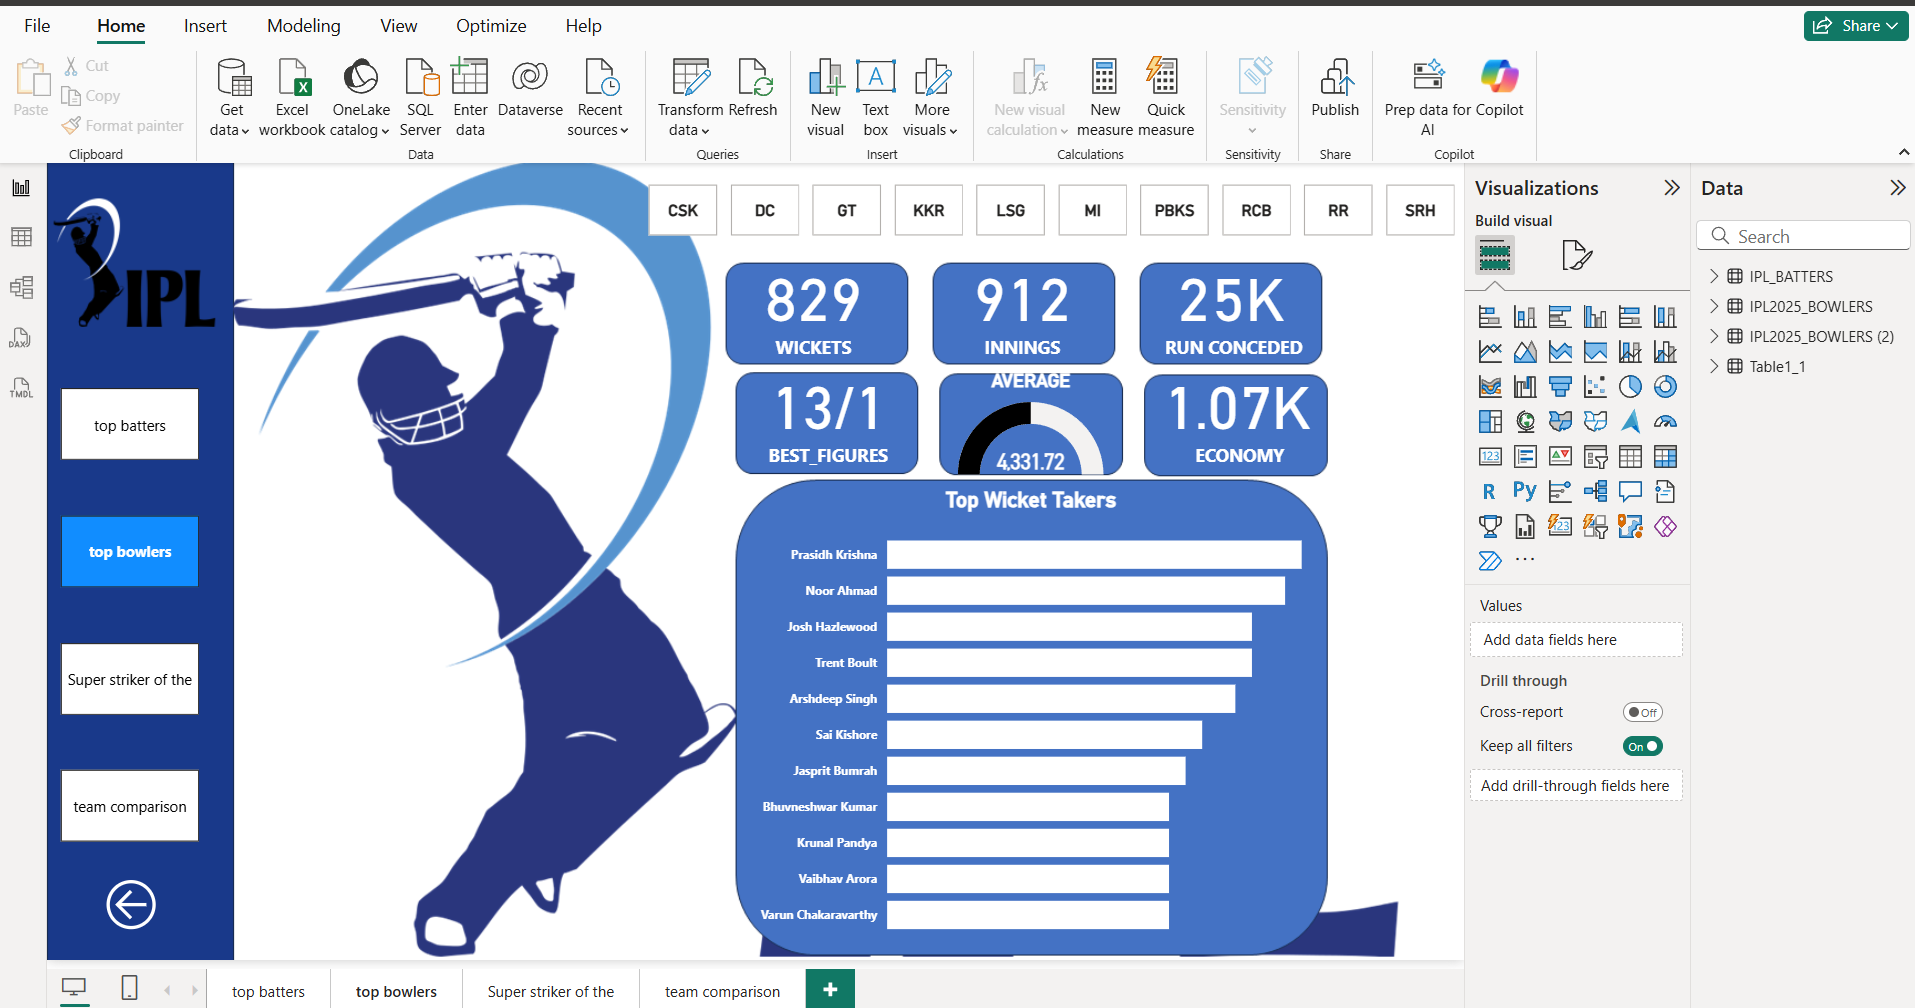

Layout of this report page (visuals, bound fields, positions):
{"tool":"powerbi","page":{"name":"top bowlers","canvas":[1280,720],"ordinal":1},"visuals":[{"type":"clusteredBarChart","title":"Top Wicket Takers","fields":{"Category":["IPL2025_BOWLERS (2).PLAYER_NAME"],"Y":["Sum(IPL2025_BOWLERS (2).WICKETS)"]},"box":[639.5,293.7,499.5,417.2],"z":0},{"type":"card","fields":{"Values":["Min(IPL2025_BOWLERS (2).BEST_FIGURES)"]},"box":[618.9,171.5,174.3,107],"z":1000},{"type":"card","fields":{"Values":["Sum(IPL2025_BOWLERS (2).WICKETS)"]},"box":[603.8,74.1,177,107],"z":2000},{"type":"card","fields":{"Values":["Sum(IPL2025_BOWLERS (2).INNINGS)"]},"box":[793.1,74.1,177,107],"z":3000},{"type":"card","fields":{"Values":["Sum(IPL2025_BOWLERS (2).RUNS_CONCEDED)"]},"box":[977,74.1,186.6,107],"z":4000},{"type":"card","fields":{"Values":["Sum(IPL2025_BOWLERS (2).ECONOMY)"]},"box":[986.6,171.5,177,107],"z":5000},{"type":"advancedSlicerVisual","fields":{"Values":["IPL_BATTERS.TEAM"]},"box":[538.1,15.1,741.9,57],"z":6000},{"type":"gauge","fields":{"Y":["Sum(IPL2025_BOWLERS (2).AVERAGE)"]},"box":[805,186,167.4,100],"z":7000},{"type":"actionButton","box":[47.1,641.4,91.4,57.1],"z":8000},{"type":"pageNavigator","box":[12.9,202.9,125.7,411.4],"z":9000}]}

Visuals, with their boxes on the page's 1280x720 design canvas (x1, y1, x2, y2). These are canvas units, not pixel positions in the 1915x1008 screenshot, which may show the page scaled, cropped or inside an application window:
"Top Wicket Takers" clusteredBarChart: (640,294,1139,711)
card - Min(IPL2025_BOWLERS (2).BEST_FIGURES): (619,172,793,278)
card - Sum(IPL2025_BOWLERS (2).WICKETS): (604,74,781,181)
card - Sum(IPL2025_BOWLERS (2).INNINGS): (793,74,970,181)
card - Sum(IPL2025_BOWLERS (2).RUNS_CONCEDED): (977,74,1164,181)
card - Sum(IPL2025_BOWLERS (2).ECONOMY): (987,172,1164,278)
advancedSlicerVisual - IPL_BATTERS.TEAM: (538,15,1280,72)
gauge - Sum(IPL2025_BOWLERS (2).AVERAGE): (805,186,972,286)
actionButton: (47,641,138,698)
pageNavigator: (13,203,139,614)
